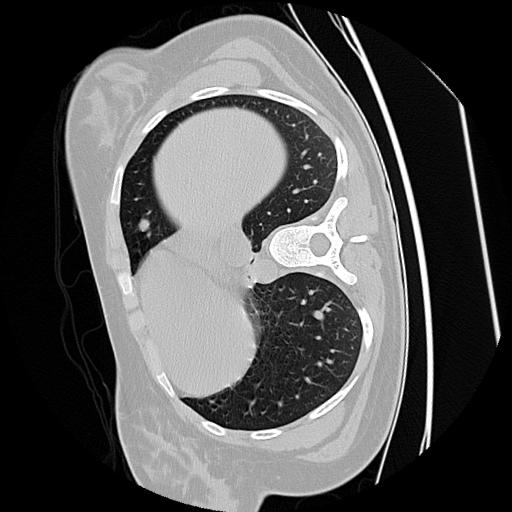nodule: (135, 215, 154, 234)
